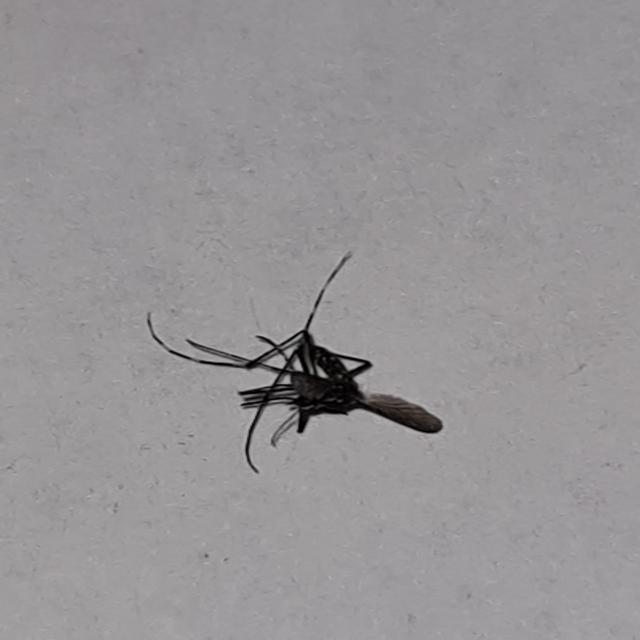albopictus: (141, 249, 449, 477)
